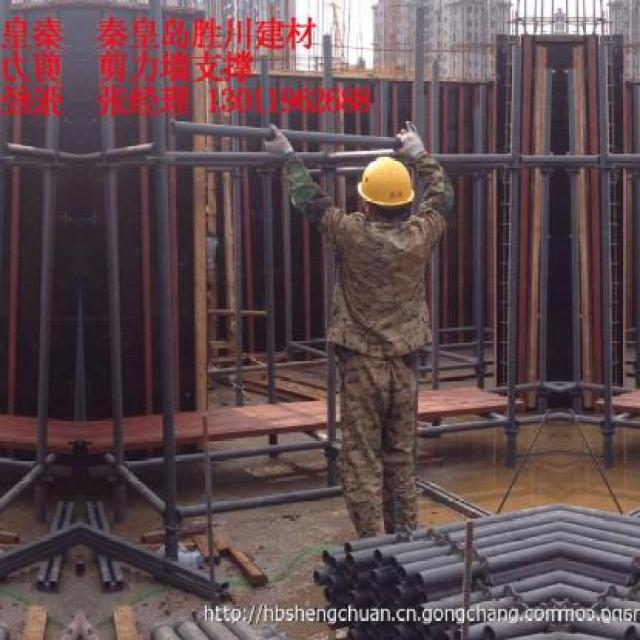helmet: (350, 147, 420, 230)
